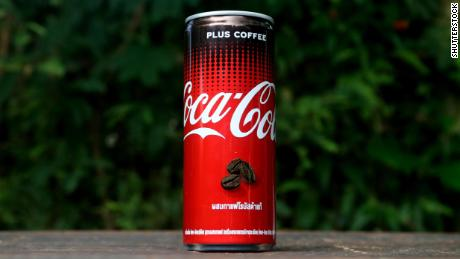coke: (180, 9, 274, 250)
